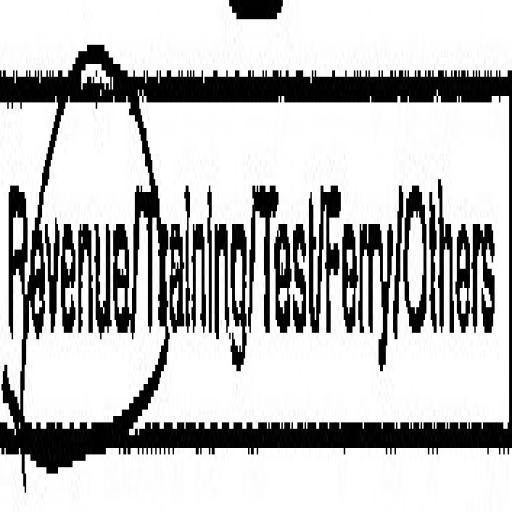check: (0, 0, 135, 506)
